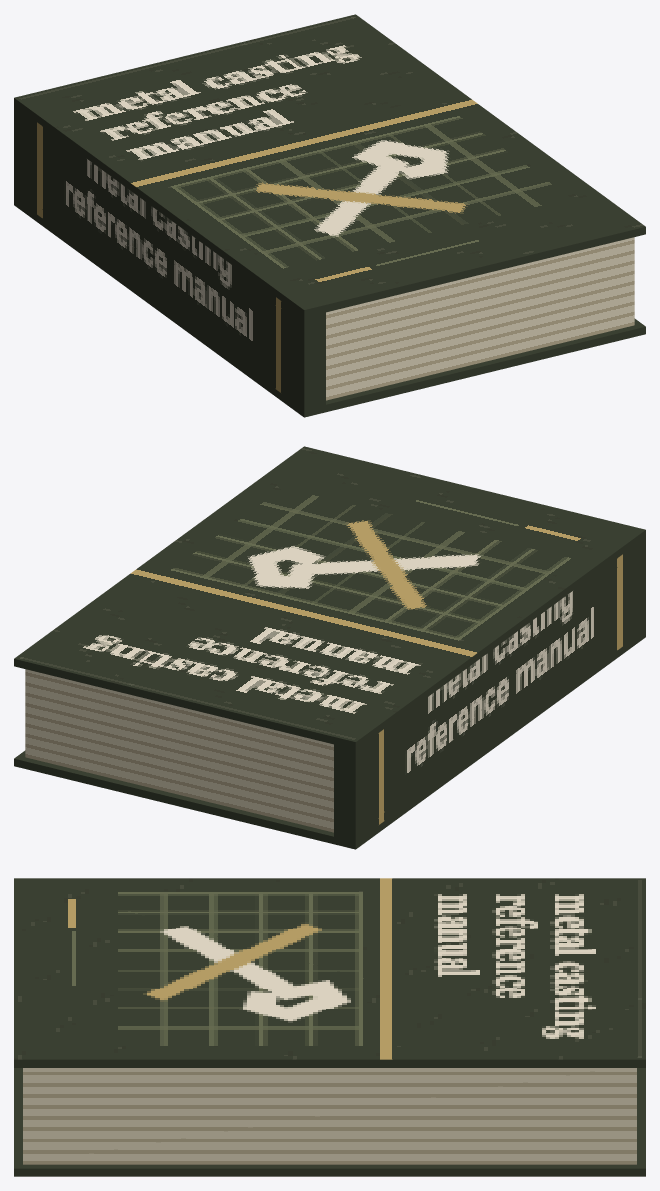
Rendered from metal_casting_book.glb.
3 renders of one model, top to bottom at view 1: azimuth 30°, elevation 25°; view 2: azimuth 150°, elevation 25°; view 3: azimuth 270°, elevation 25°, orthographic. The views are drawn at different scales.
Visible parts, largest first — view 1: block_front cover, block_spine, block_page block, block_back cover; view 2: block_front cover, block_spine, block_page block, block_back cover; view 3: block_front cover, block_page block, block_back cover.
Boxes of the visible parts, x1,y1,x2,y2 form: block_front cover: (14, 14, 645, 317); block_spine: (14, 105, 325, 409); block_page block: (326, 237, 634, 400); block_back cover: (14, 198, 645, 417); block_front cover: (14, 446, 645, 749); block_spine: (334, 537, 645, 841); block_page block: (25, 669, 333, 832); block_back cover: (14, 630, 645, 849); block_front cover: (14, 878, 645, 1067); block_page block: (23, 1068, 636, 1164); block_back cover: (14, 1068, 645, 1176).
Bounding box in the file's own units: 0.1414 × 0.0425 × 0.208.
Materials: 1 (1 with a texture image).
